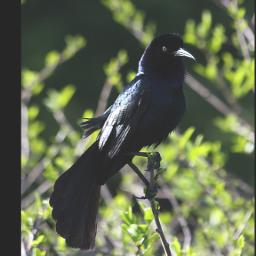Crow: (50, 30, 197, 249)
